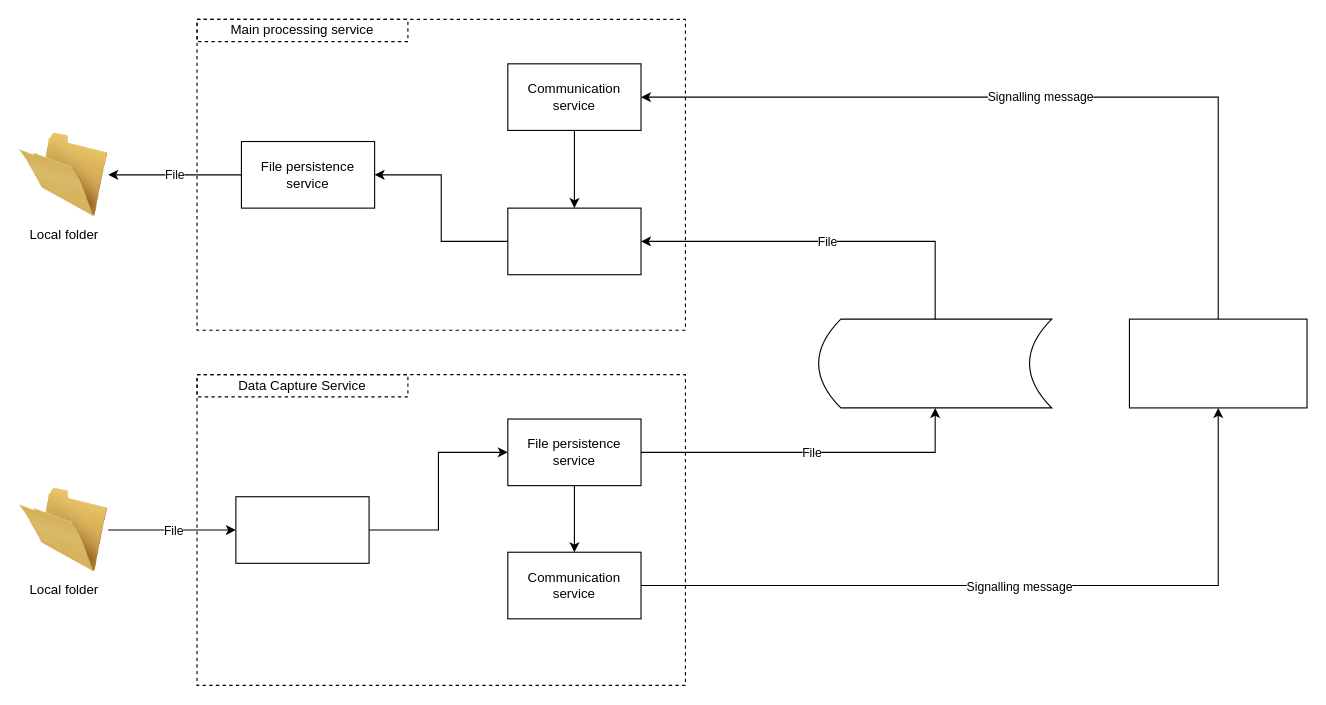
Image size: 1326x705. Some labels were removed from this diagram. Each missing label, with the centre of its shape:
"Azure Blob Storage" belongs at [935,363].
"Azure Service Bus" belongs at [1217,363].
"File retrieval service" belongs at [574,241].
"Local folder monitor" belongs at [302,529].
